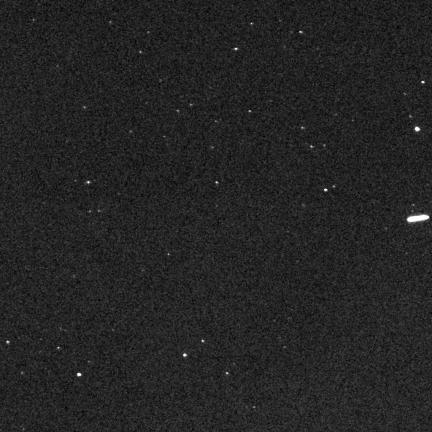blob: (415, 127, 420, 132), (77, 373, 81, 376)
